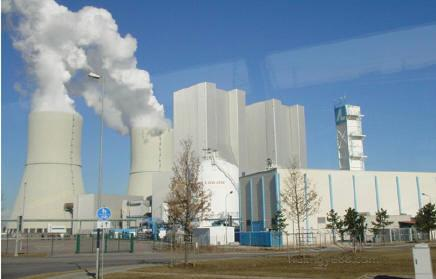dust: (82, 12, 176, 138), (7, 3, 88, 119)
